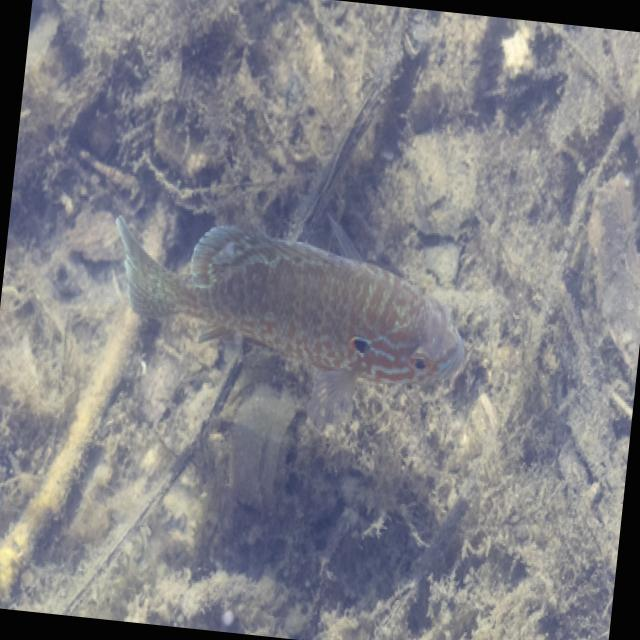Gunes Levregi: (93, 188, 481, 400)
